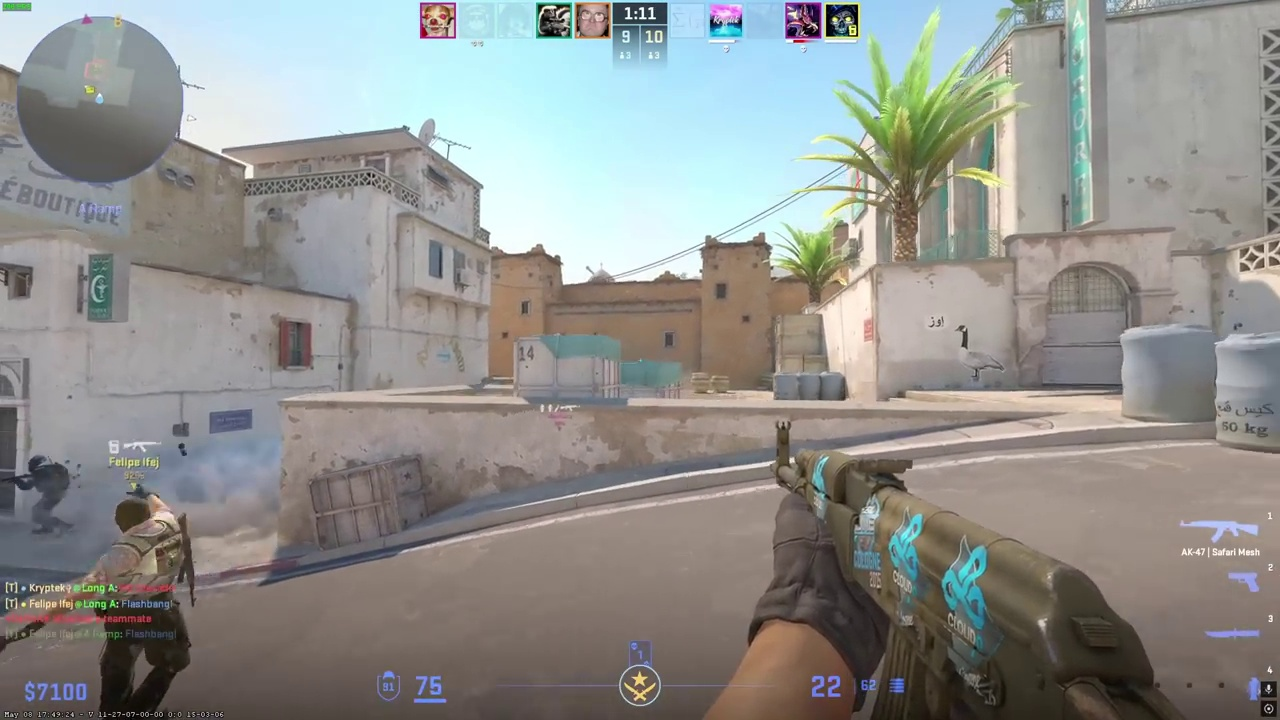CT: (23, 454, 70, 536)
Terrorist: (93, 498, 192, 718)
